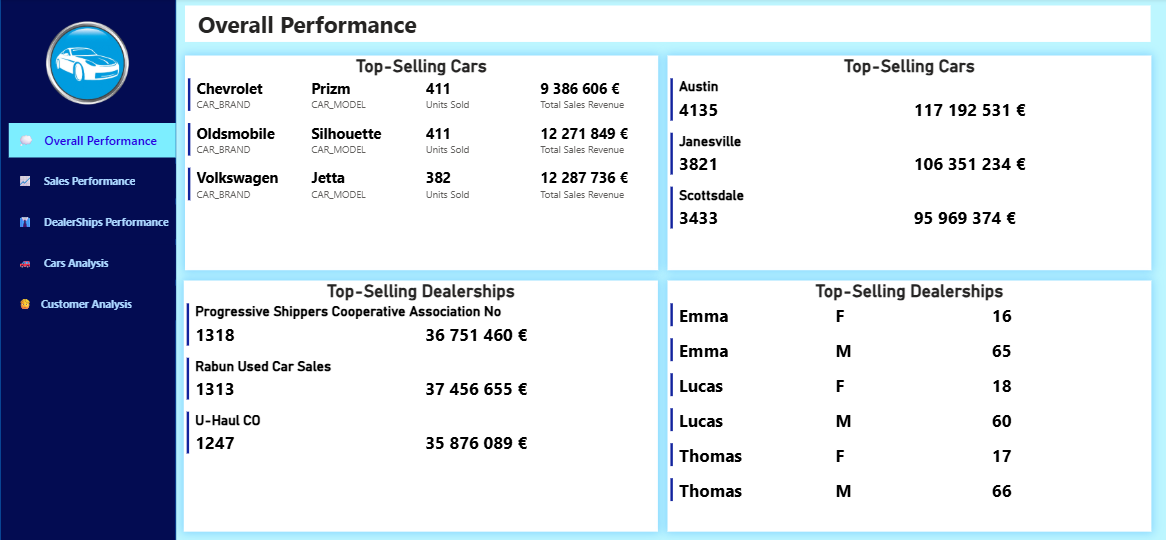

Layout of this report page (visuals, bound fields, positions):
{"tool":"powerbi","page":{"name":"💭   Overall Performance","canvas":[1920,900],"ordinal":0},"visuals":[{"type":"shape","box":[0,0,290,900],"z":0},{"type":"shape","box":[305.2,12.4,1590,60],"z":1000},{"type":"textbox","box":[320.9,12.2,605.2,61],"z":2000},{"type":"pageNavigator","box":[14,205.8,275.6,327.9],"z":3000},{"type":"multiRowCard","title":"Top-Selling Cars","fields":{"Values":["Sales.CAR_BRAND","Sales.CAR_MODEL","Sales.Units Sold","Sales.Total Sales Revenue"]},"box":[304.9,95.7,778.9,353.8],"z":4000},{"type":"multiRowCard","title":"Top-Selling Cars","fields":{"Values":["Sales.DEALERSHIP_REGION","Sales.Units Sold","Sales.Total Sales Revenue"]},"box":[1099.3,95.7,796.7,353.8],"z":5000},{"type":"multiRowCard","title":"Top-Selling Dealerships","fields":{"Values":["Sales.DEALERSHIP_NAME","Sales.Units Sold","Sales.Total Sales Revenue"]},"box":[302.6,465.1,781.1,413.9],"z":6000},{"type":"multiRowCard","title":"Top-Selling Dealerships","fields":{"Values":["Sales.CUSTOMER_NAME","Sales.CUSTOMER_GENDER","Sales.TRANSACTION_DATE"]},"box":[1099.3,465.1,796.7,413.9],"z":7000},{"type":"image","box":[70,32.9,148.2,148.2],"z":8000}]}

Visuals, with their boxes on the page's 1920x900 design canvas (x1, y1, x2, y2). These are canvas units, not pixel positions in the 1166x540 screenshot, which may show the page scaled, cropped or inside an application window:
shape: bbox=(0, 0, 290, 900)
shape: bbox=(305, 12, 1895, 72)
textbox: bbox=(321, 12, 926, 73)
pageNavigator: bbox=(14, 206, 290, 534)
"Top-Selling Cars" multiRowCard: bbox=(305, 96, 1084, 450)
"Top-Selling Cars" multiRowCard: bbox=(1099, 96, 1896, 450)
"Top-Selling Dealerships" multiRowCard: bbox=(303, 465, 1084, 879)
"Top-Selling Dealerships" multiRowCard: bbox=(1099, 465, 1896, 879)
image: bbox=(70, 33, 218, 181)
